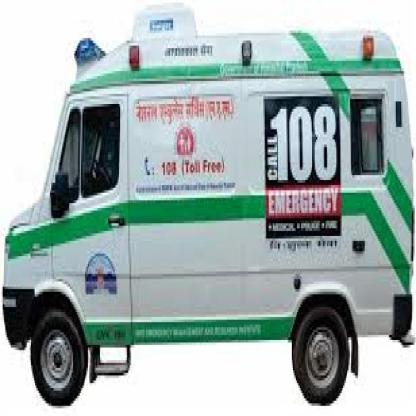priority: (0, 1, 416, 409)
